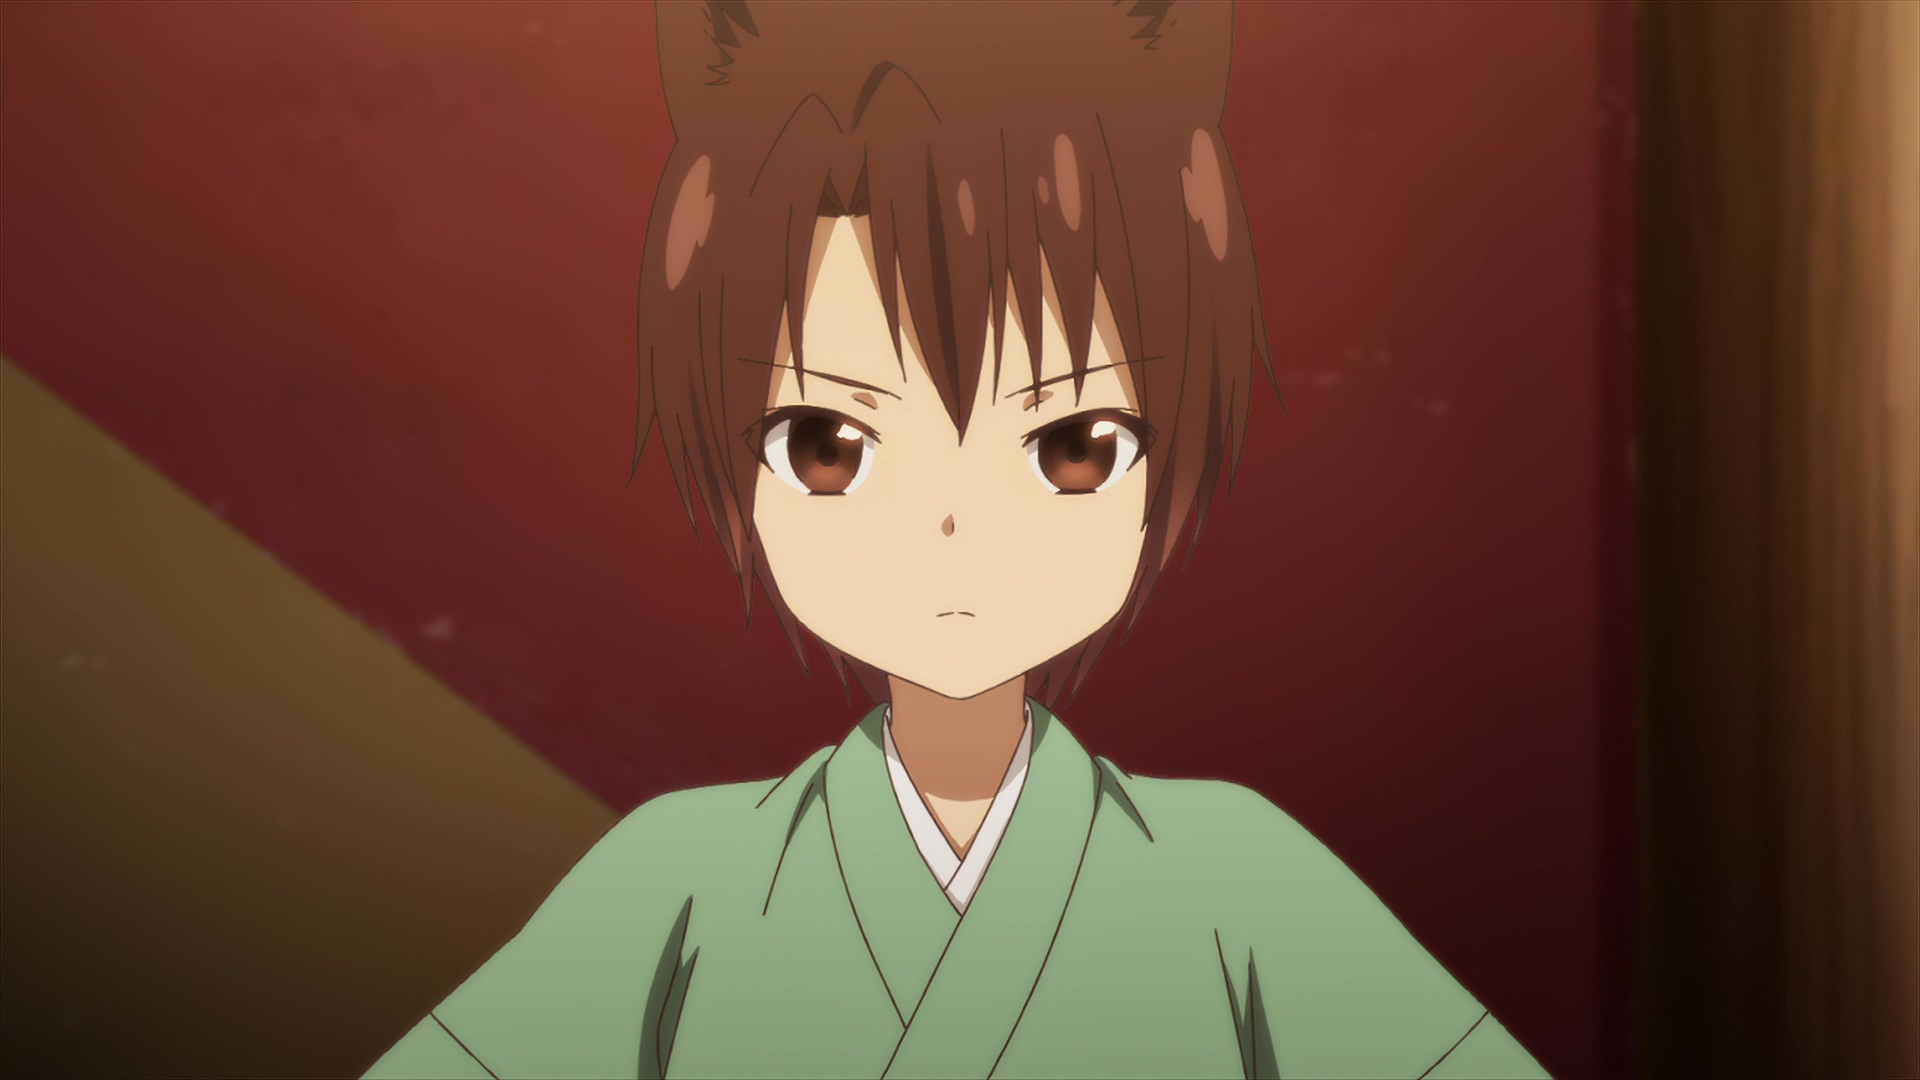枣: (363, 1, 1553, 1080)
